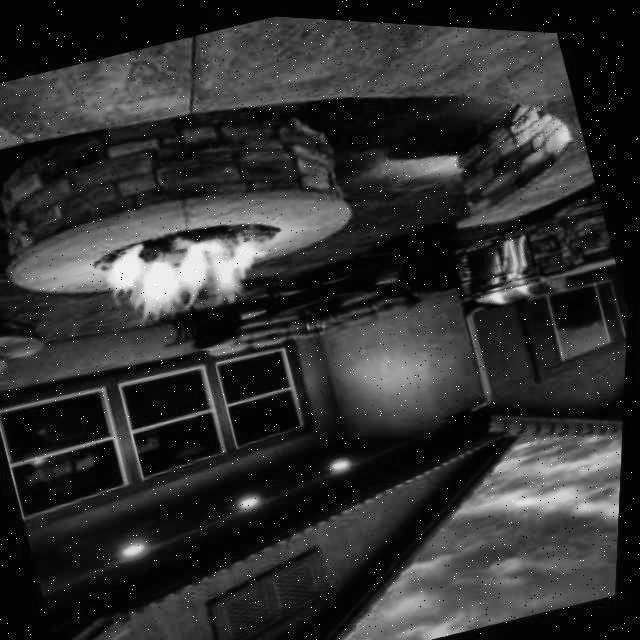Fire: (93, 187, 302, 343)
